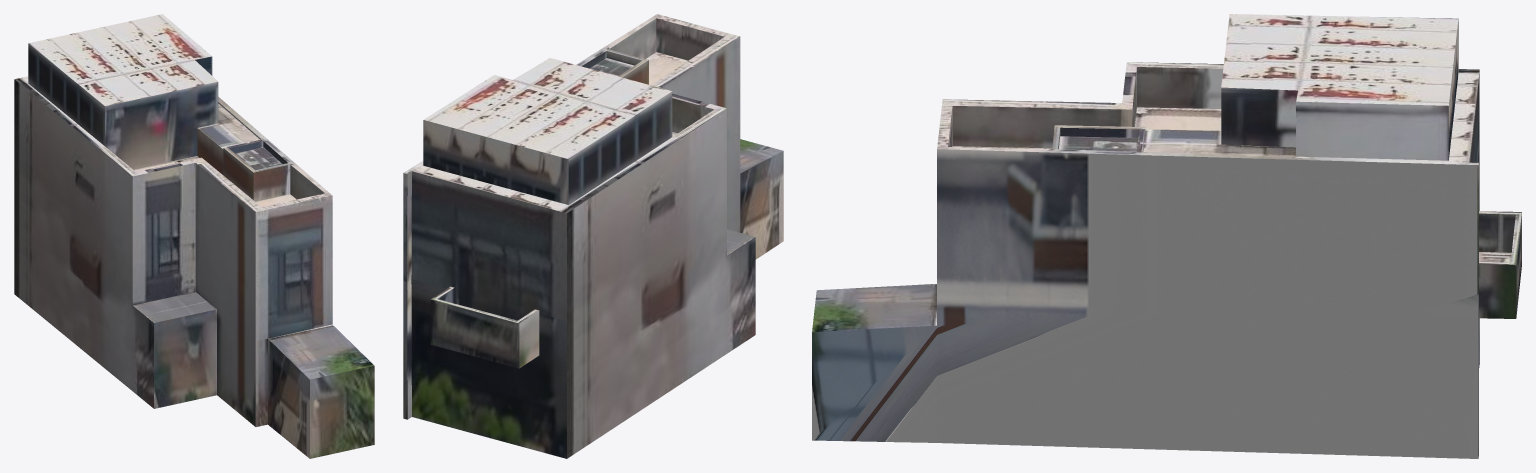
The picture shows the model from 3 angles, left to right: view 1: azimuth 30°, elevation 25°; view 2: azimuth 150°, elevation 25°; view 3: azimuth 270°, elevation 25°; orthographic projection. The views are drawn at different scales.
Visible parts, largest first — view 1: B284344037701062A0; view 2: B284344037701062A0; view 3: B284344037701062A0.
Boxes of the visible parts, box(x1,y1,x2,y2) form: B284344037701062A0: box(14, 14, 374, 458); B284344037701062A0: box(403, 14, 783, 458); B284344037701062A0: box(812, 14, 1521, 458).
Size of the model in its own units: 6.86 by 10.71 by 19.76.
2 materials, 2 textured.
